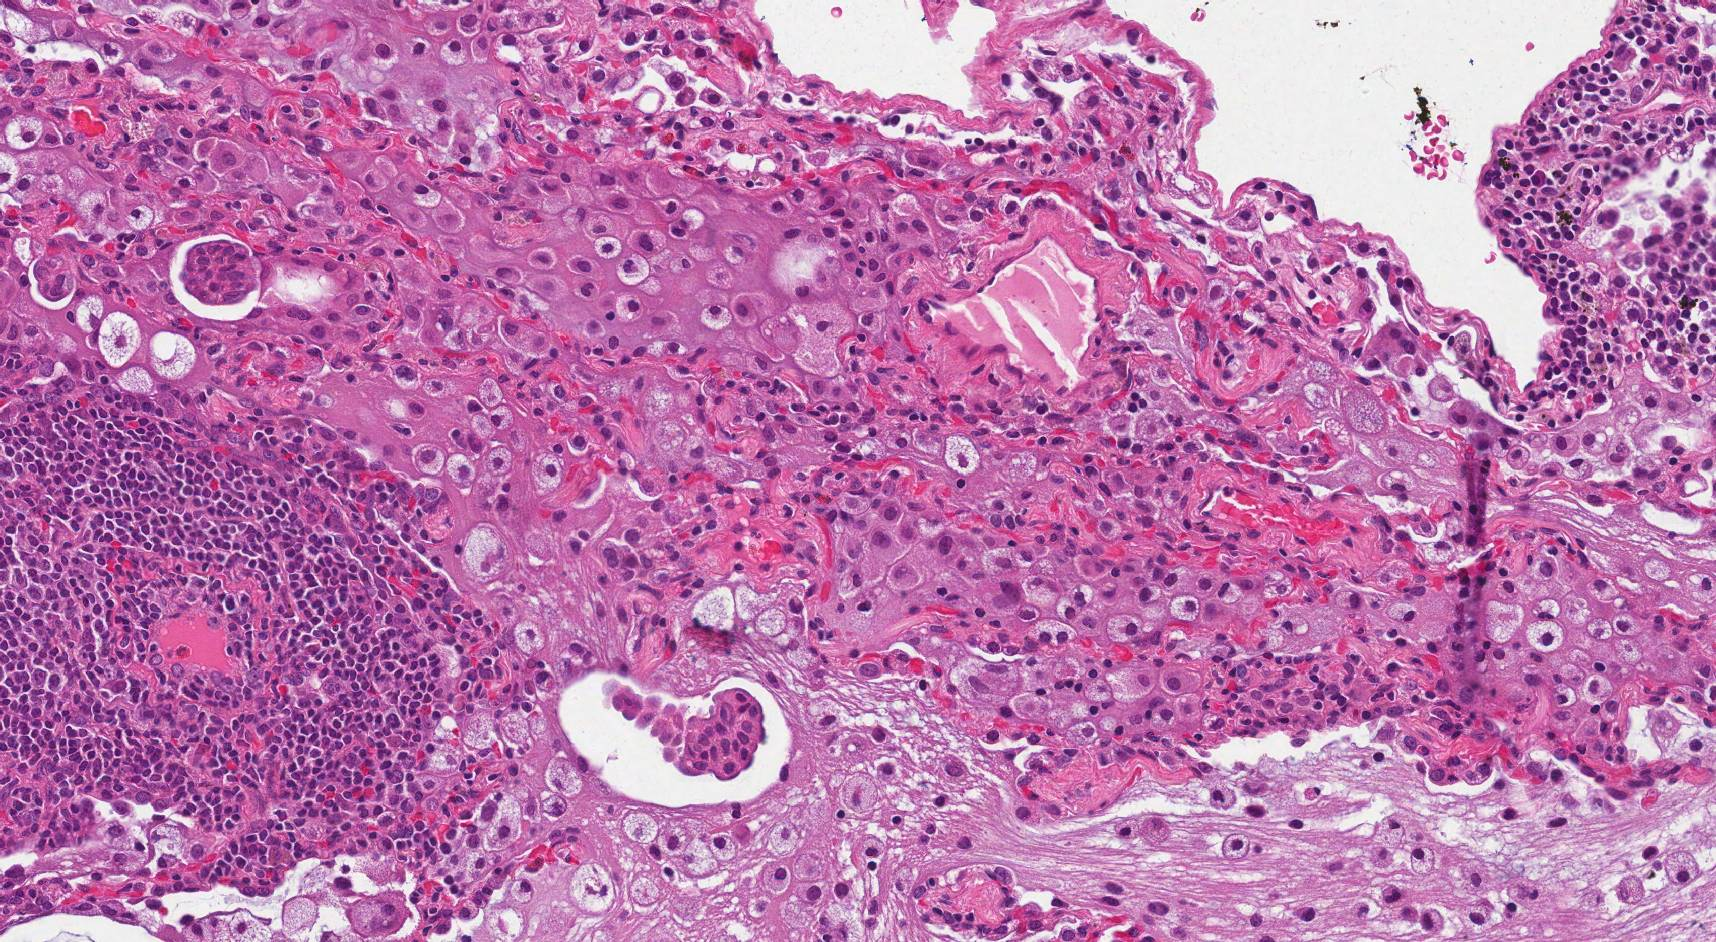stas: (610, 685, 765, 783), (178, 239, 258, 304)
